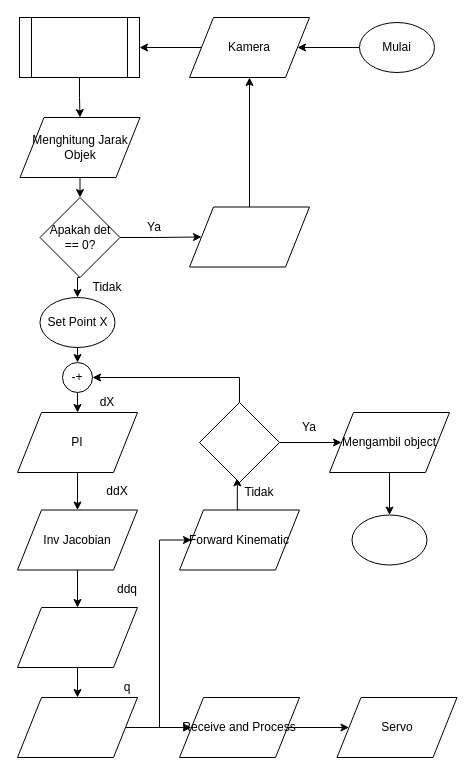
Image size: 475x775. Some labels were removed from this diagram. The shapes that lost their labels are listed below. From the top down, each one's box as (x1, y1, x2, y2) in pixels, then its label:
(18, 16, 140, 78): Object Recognition
(188, 206, 310, 267): Menggerakan mobile robot
(198, 402, 280, 482): Tiba di tujuan?
(351, 514, 427, 565): Selesai
(16, 606, 138, 668): Double Integral
(16, 696, 138, 758): Preparing Data
